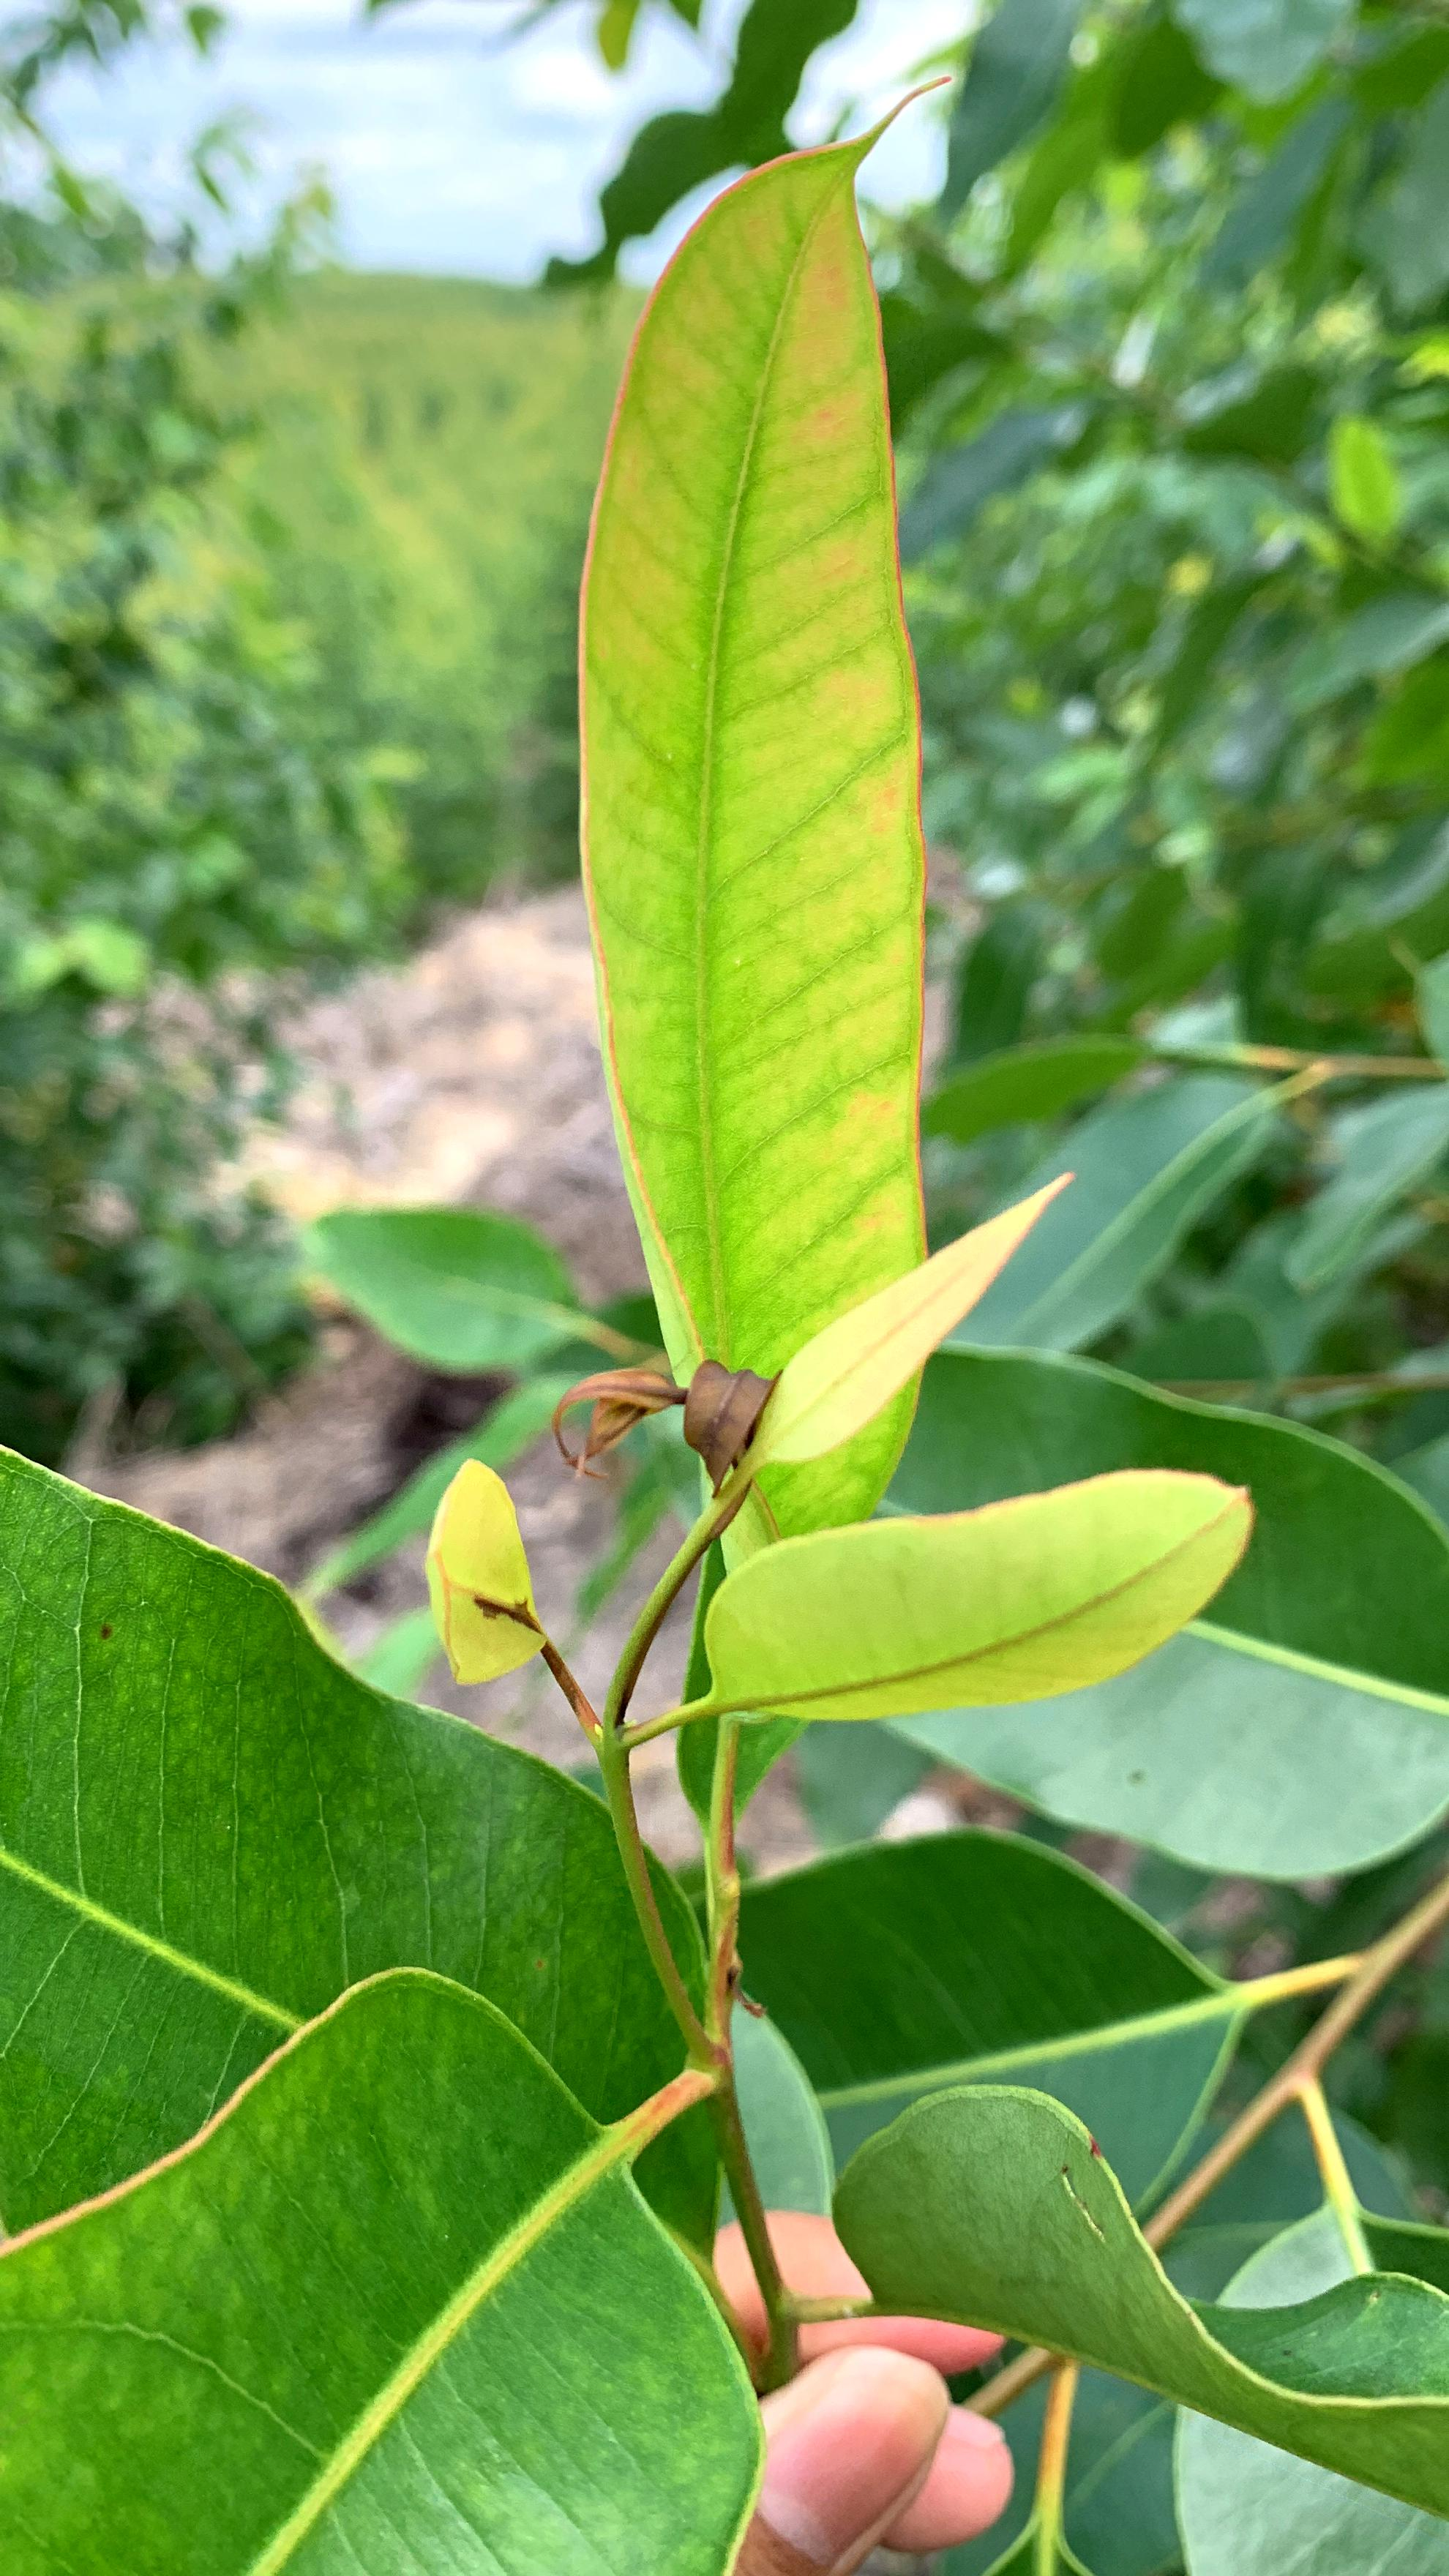Helopeltis-Withered Sprout: (558, 1282, 836, 1629)
